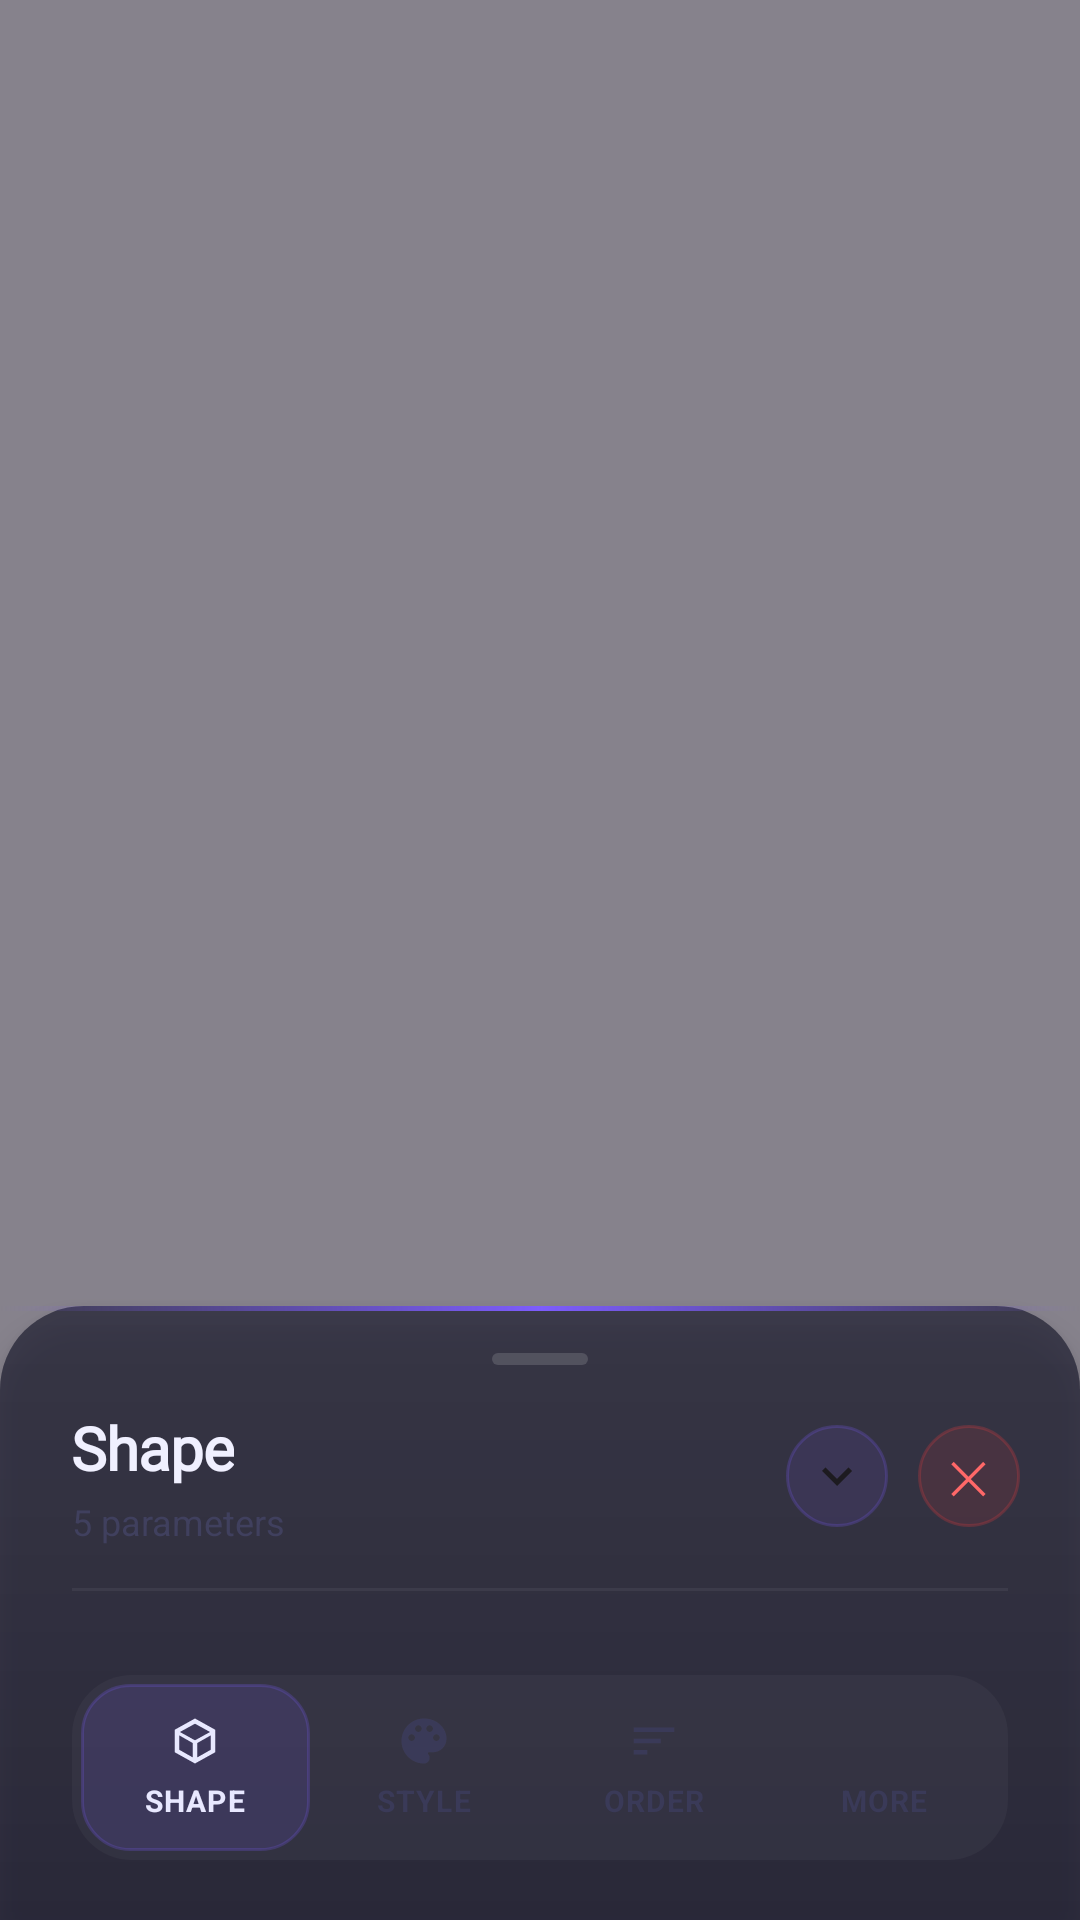

Named icons in this screenshot (1080w x 1920h) and their bounding boxes, (x1,y1,x2,y2):
Minimize panel: (786,1425,888,1527)
